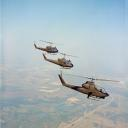helicopter: (56, 72, 121, 107), (42, 51, 81, 72), (33, 37, 66, 57)
